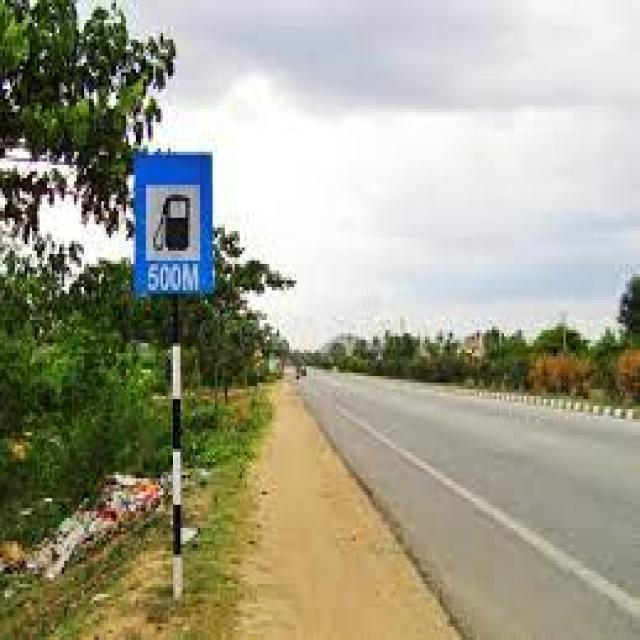petrol pump ahead: (129, 147, 215, 262)
